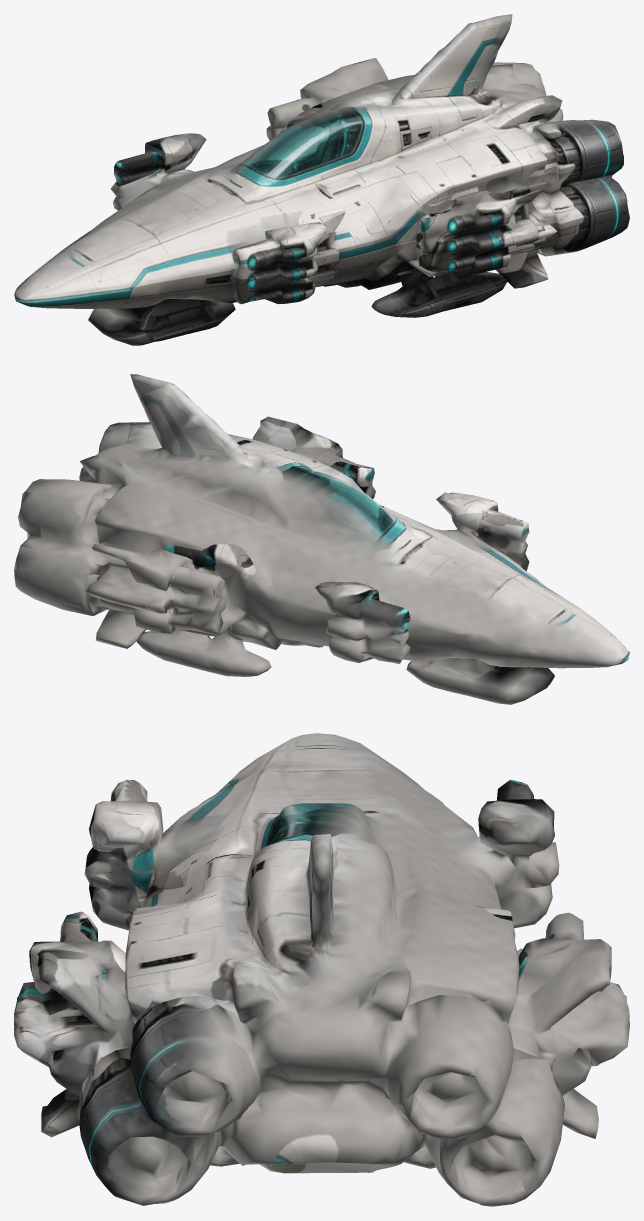
Rendered from chergui_lod1.glb.
3 views of the same model, one above another, from view 1: azimuth 30°, elevation 25°; view 2: azimuth 150°, elevation 25°; view 3: azimuth 270°, elevation 25° (orthographic). The views are drawn at different scales.
Visible parts, largest first — view 1: geometry_0; view 2: geometry_0; view 3: geometry_0.
Boxes of the visible parts, box(x1,y1,x2,y2) form: geometry_0: box(14, 14, 629, 345); geometry_0: box(14, 374, 629, 704); geometry_0: box(14, 733, 629, 1206).
Bounding box in the file's own units: 2.01 × 0.777 × 1.18.
1 material, 1 textured.
